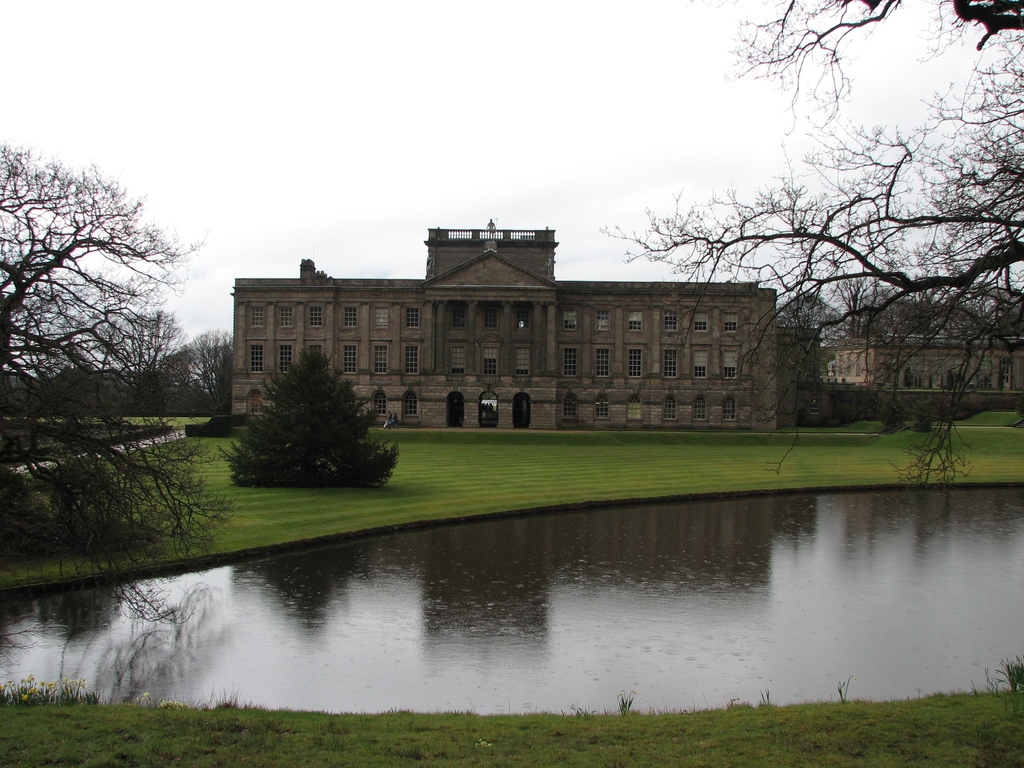Tree: (598, 0, 1024, 537), (0, 140, 250, 670), (52, 327, 231, 408)
